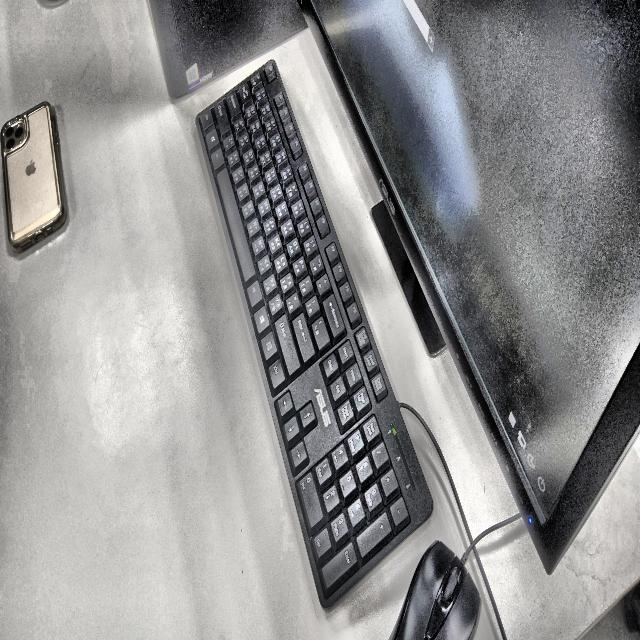Keyboard: (196, 60, 431, 607)
MOUSE: (391, 541, 481, 640)
PHONE: (0, 102, 66, 252)
Screen: (314, 0, 640, 564)
